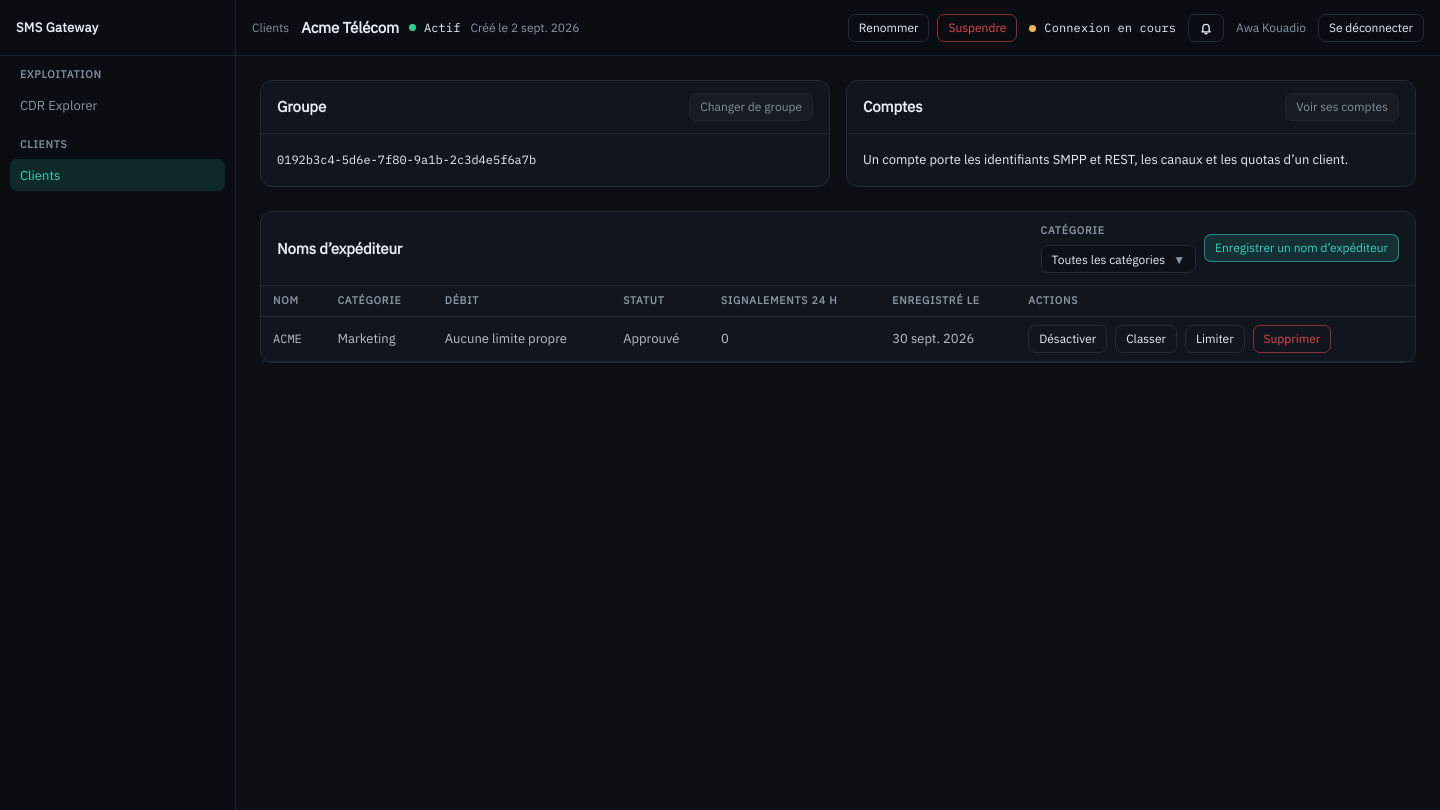
Test case: the sender IDs of a customer › holds a limit to at least one message per second before anything leaves
Click the button with aria-label "Limiter ACME" at (1215, 339), box [1185,325,1245,353]
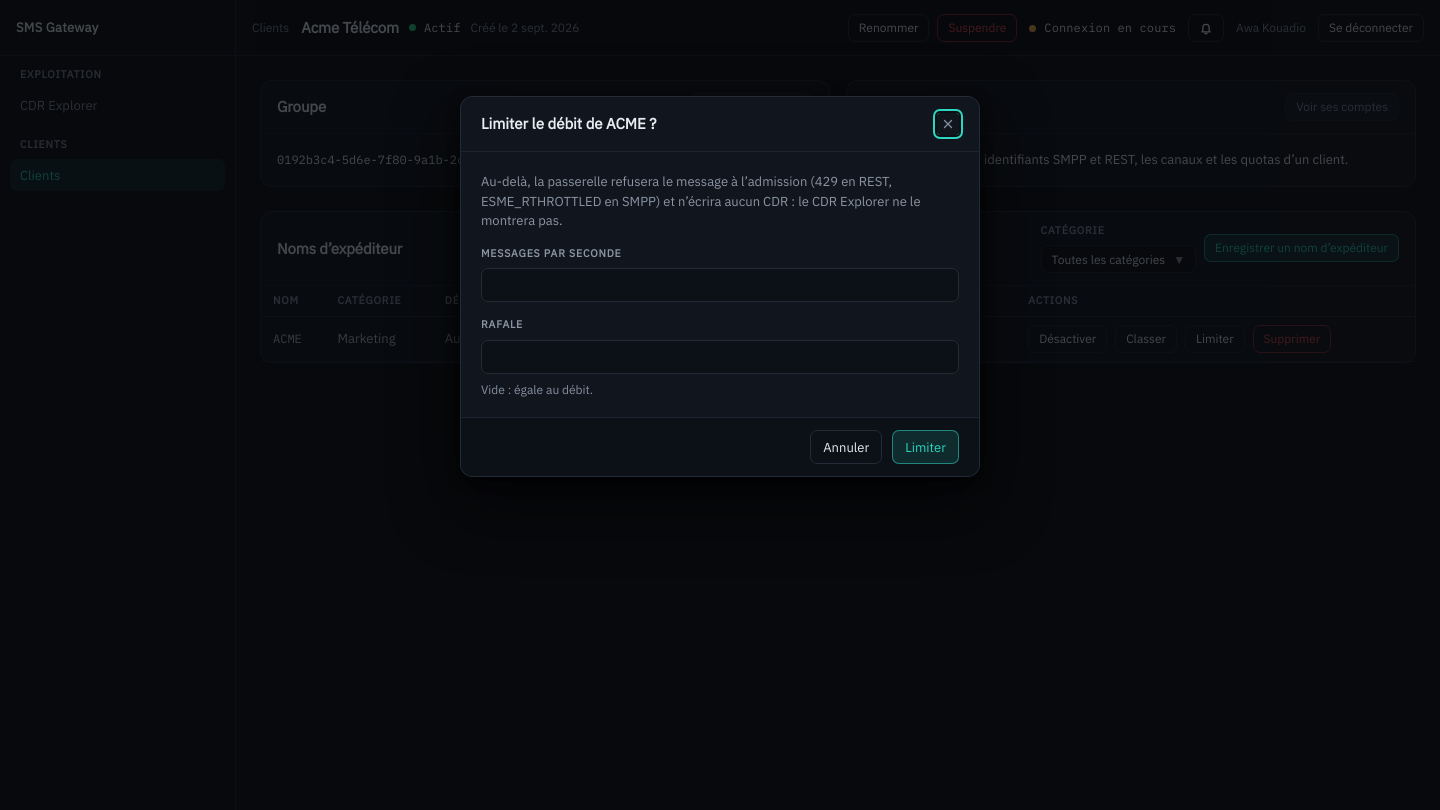
Type "0" into the field labelled "Messages par seconde" at (720, 285), box [481,268,959,302]
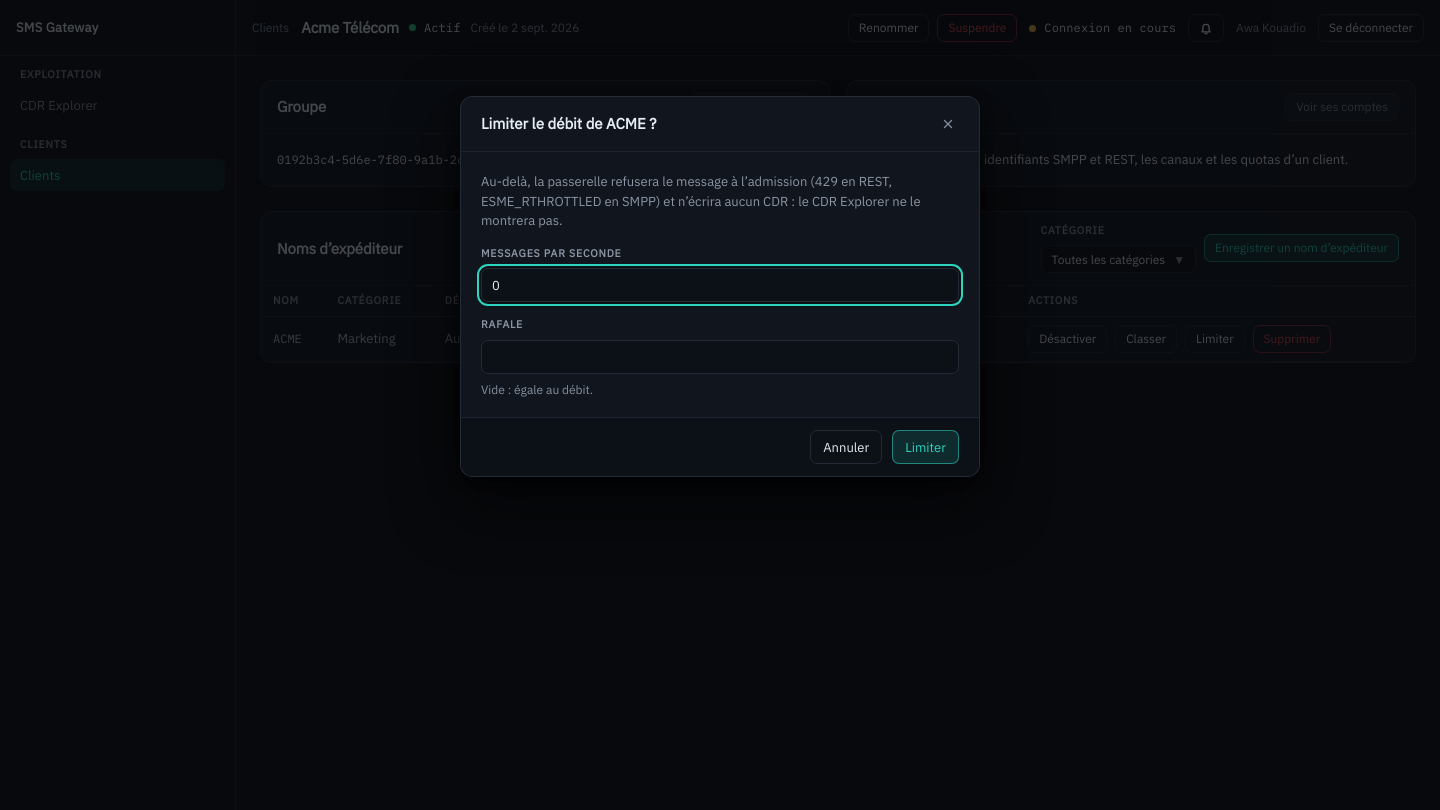
Click the button "Limiter" at (926, 447), box [892,430,959,464]
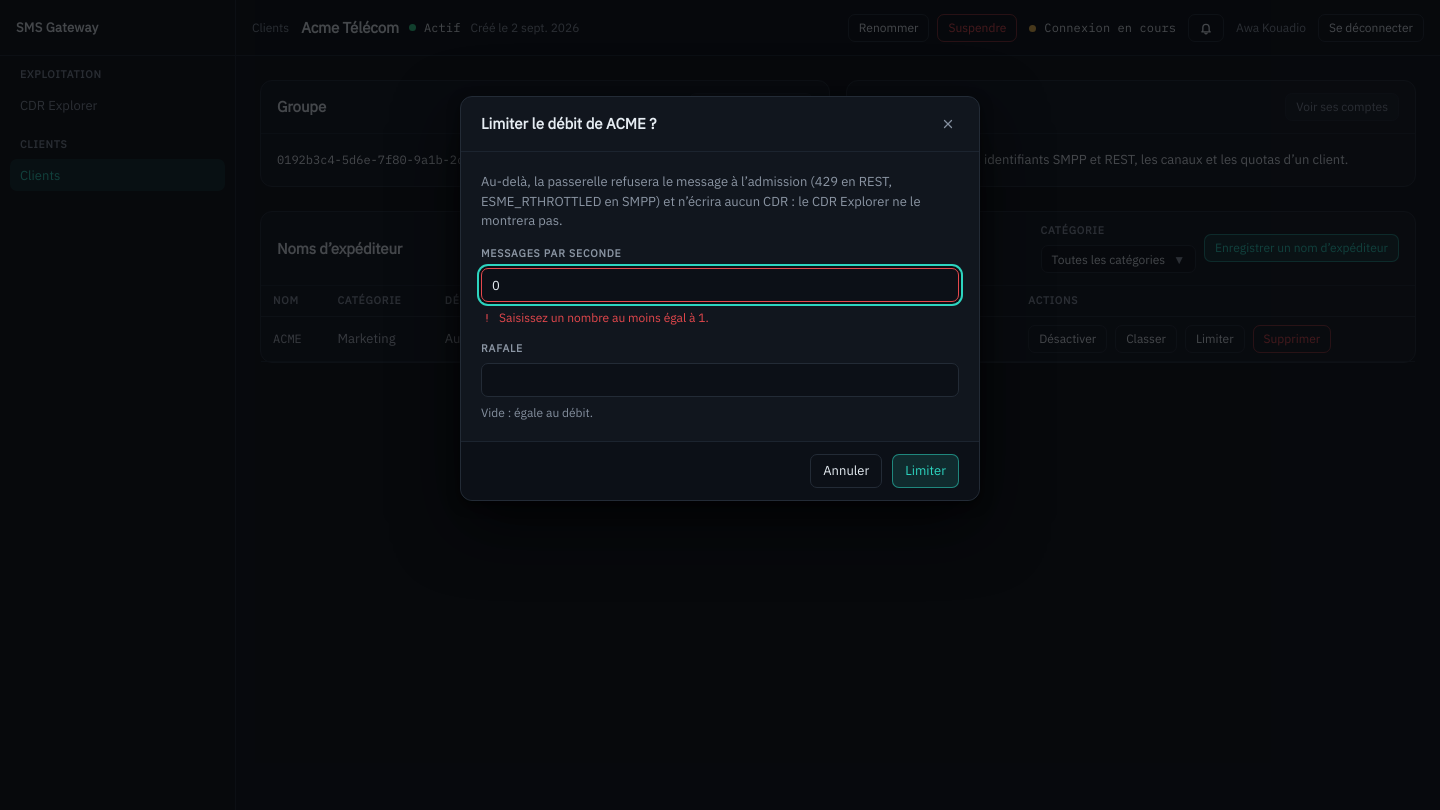
Expected: the text "Saisissez un nombre au moins égal à 1." is shown, [481,310,709,325]
